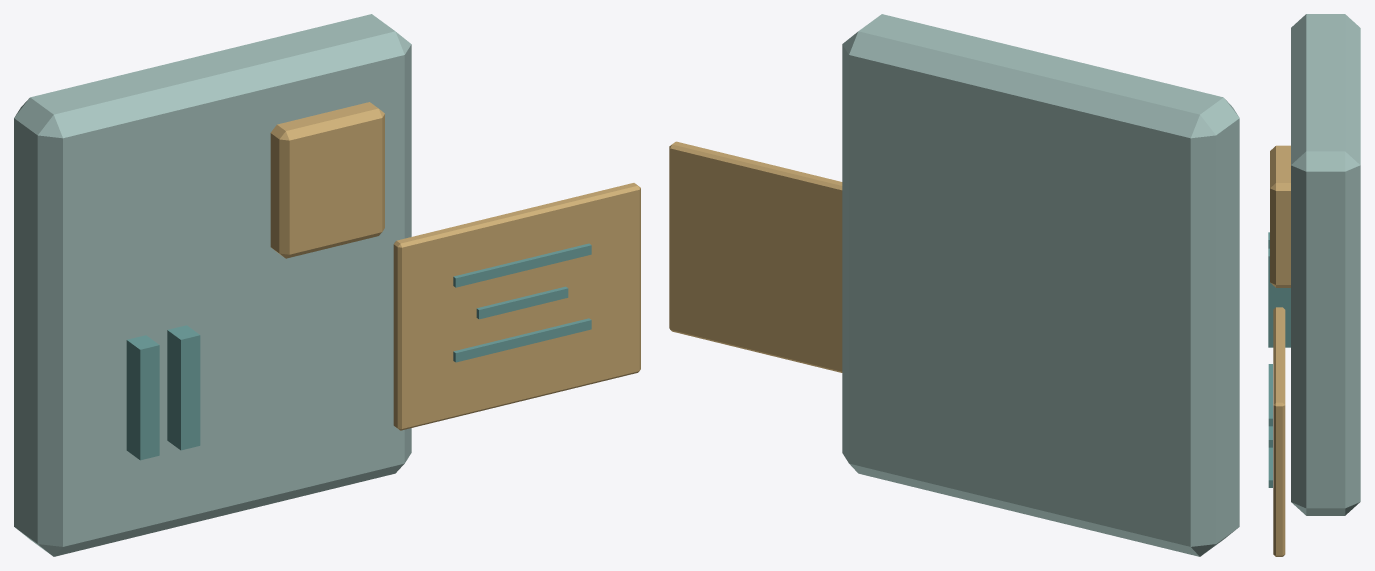
Rendered from plant_nurse.glb.
3 views of the same model, side by side, from view 1: azimuth 30°, elevation 25°; view 2: azimuth 150°, elevation 25°; view 3: azimuth 270°, elevation 25° (orthographic). The views are drawn at different scales.
Visible parts, largest first — view 1: plant_nurse; view 2: plant_nurse; view 3: plant_nurse.
Boxes of the visible parts, x1=… form: plant_nurse: x1=14, y1=14, x2=640, y2=556; plant_nurse: x1=669, y1=14, x2=1239, y2=556; plant_nurse: x1=1268, y1=14, x2=1360, y2=556.
Size of the model in its own units: 0.3598 by 0.26 by 0.0595.
